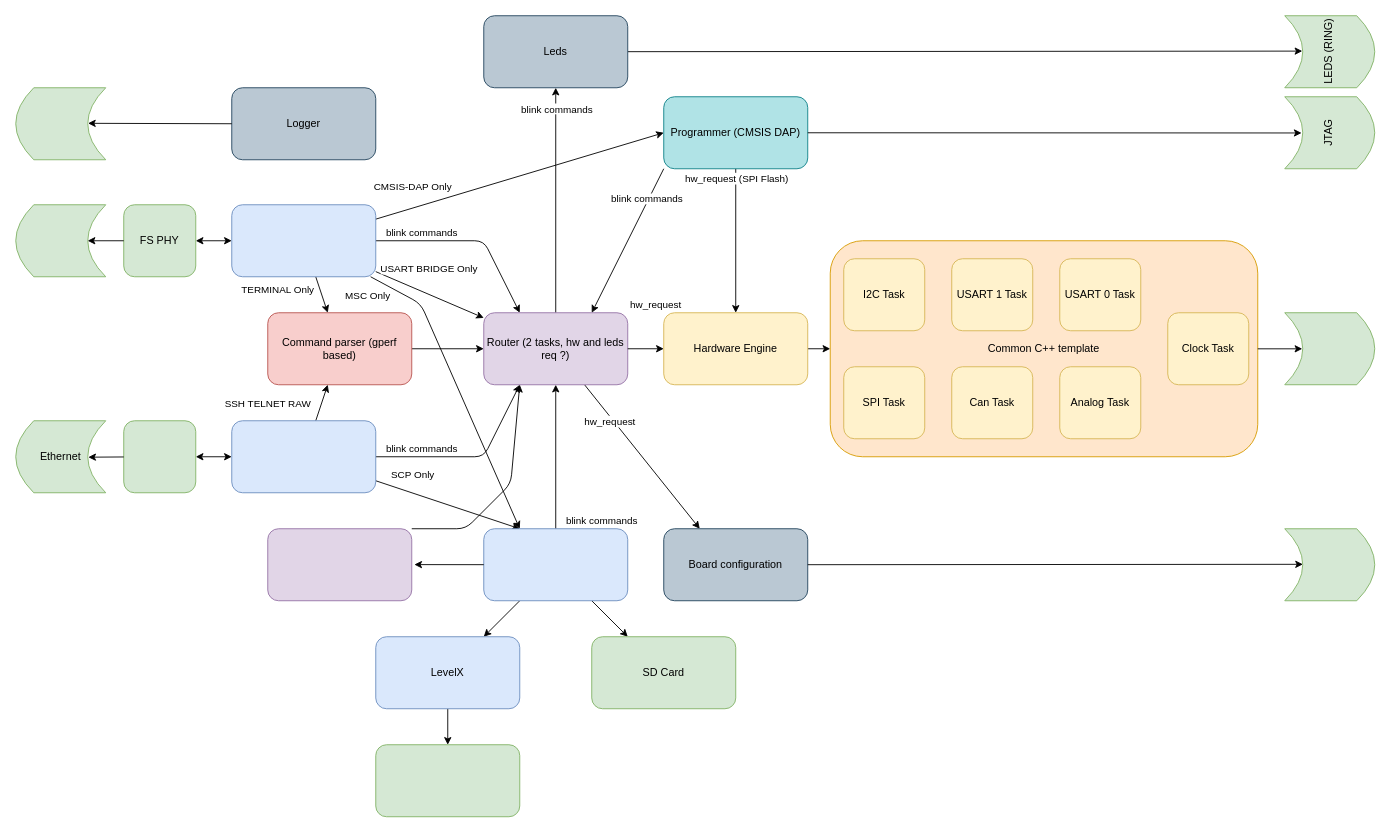
The diagram is 1391 pixels wide and 833 high, and some of its shapes have lost their labels. Each missing label, with the centre of its shape:
128 MB Flash: point 447,780
FileIO: point 555,564
HEADER: point 1329,348
I2C + SMBUS INTERNAL: point 1329,564
LAN8742 PHY: point 159,456
NetXDuo: point 303,456
Sequence engine: point 339,564
UART Header: point 60,123
USBC: point 60,240
USBX: point 303,240
